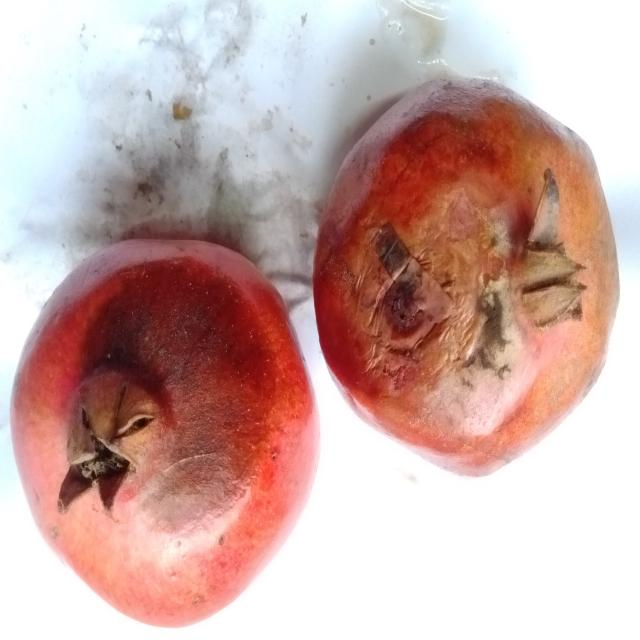Rotten: (0, 230, 327, 633), (311, 69, 625, 481)
